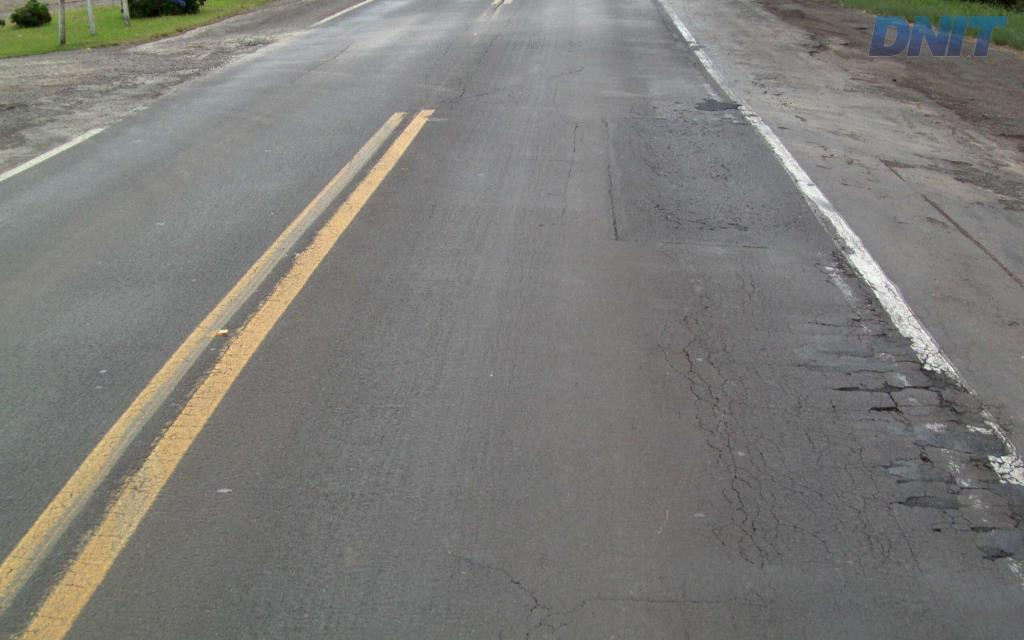crack: (723, 420, 774, 561), (885, 471, 986, 531), (832, 377, 906, 424), (975, 543, 1016, 563)
